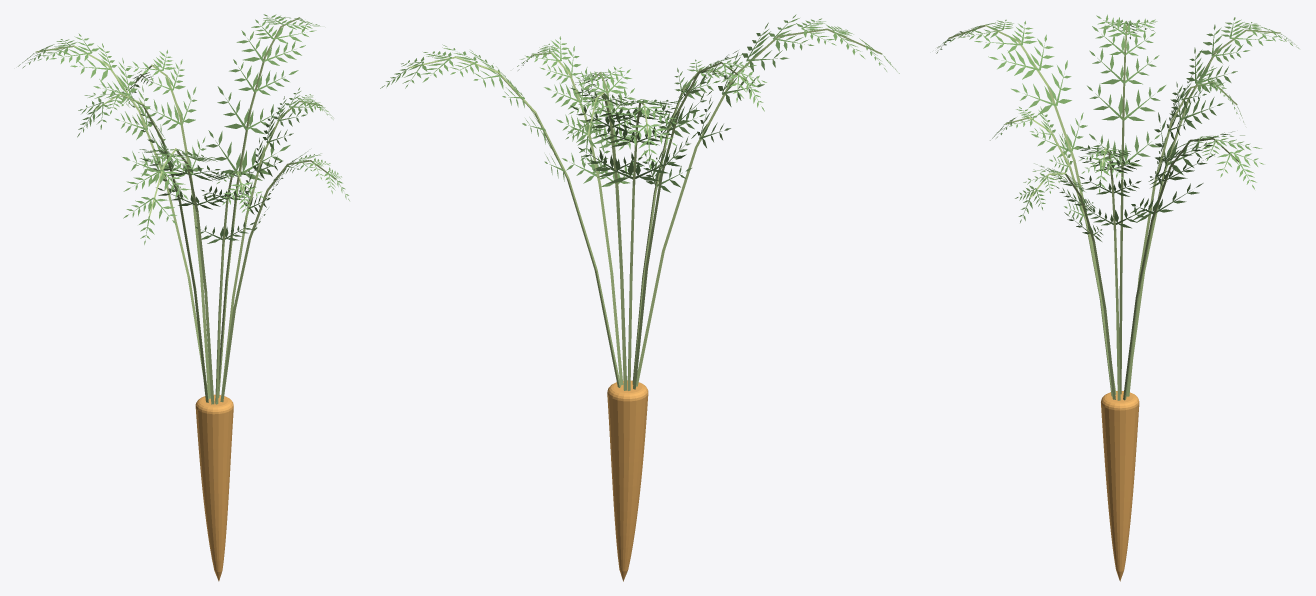
The model's file is carrot_harvest_v16.glb.
3 views of the same model, side by side, from view 1: azimuth 30°, elevation 25°; view 2: azimuth 150°, elevation 25°; view 3: azimuth 270°, elevation 25° (orthographic). The views are drawn at different scales.
Parts seen in each view (by area): view 1: plant; view 2: plant; view 3: plant.
Boxes of the visible parts, <box> form: plant: <box>18,14,349,581</box>; plant: <box>380,14,899,581</box>; plant: <box>936,14,1299,581</box>.
Size of the model in its own units: 0.3195 by 0.4733 by 0.3105.
1 material, 1 textured.
